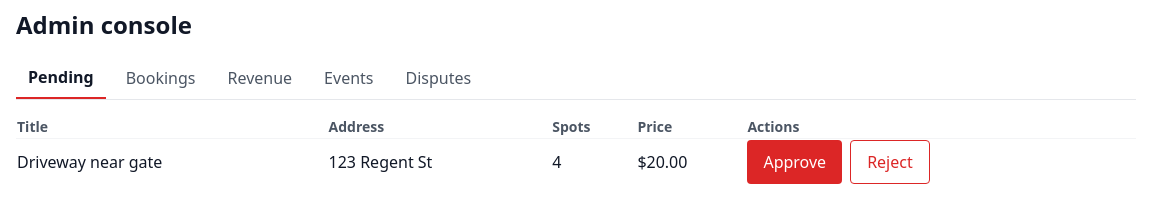
Admin console › switches to revenue tab
Click the tab with test id "tab-revenue" at point(260, 78), box x1=216 y1=57 x2=304 y2=99
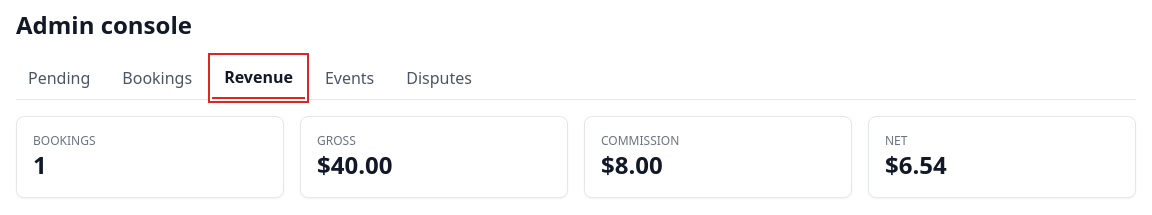
expect the element with test id "revenue-dashboard" is shown: met, box x1=16 y1=116 x2=1136 y2=198
